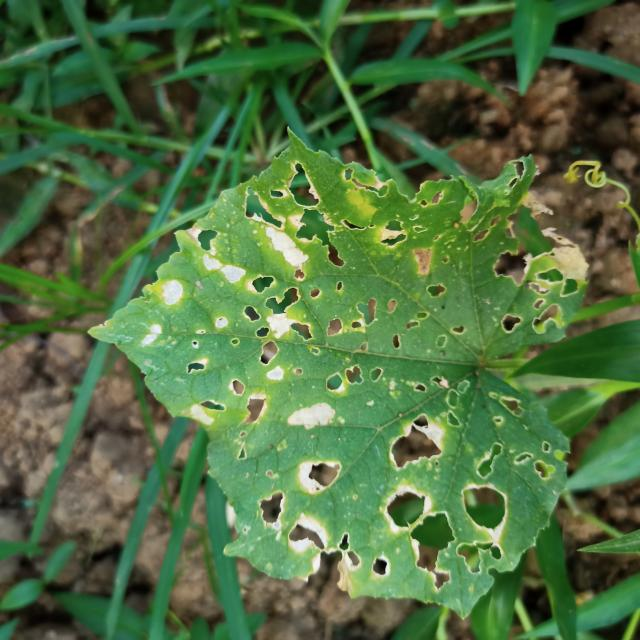disease_cucumber: (133, 188, 576, 585)
